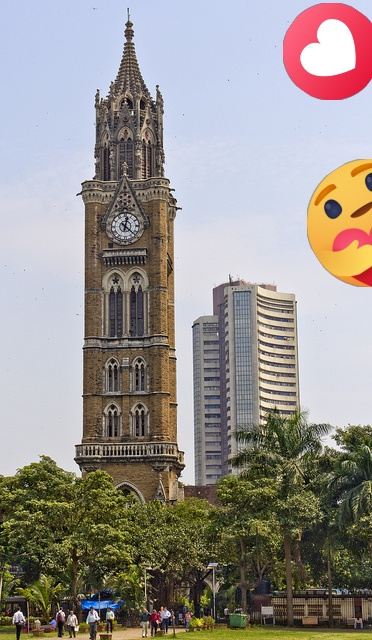care: (307, 159, 372, 287)
love: (283, 3, 372, 100)
